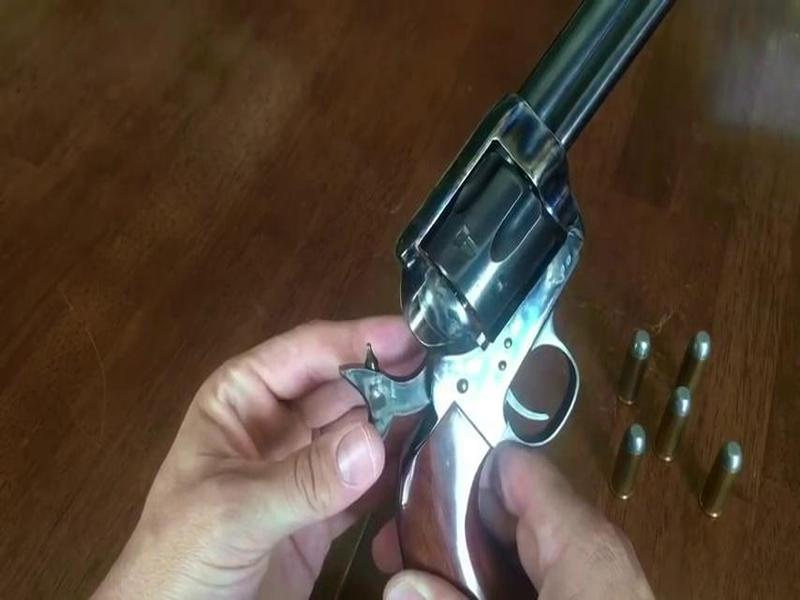Revolver: (387, 14, 681, 600)
